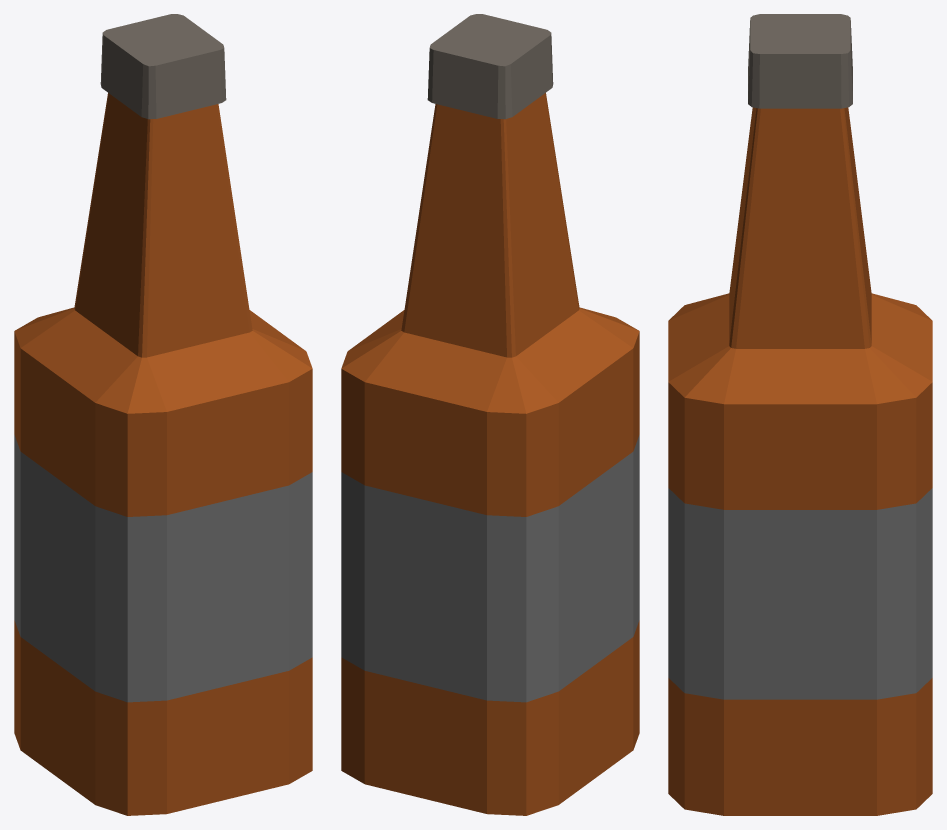
Rendered from Alcohol_Bottle_03.fbx.
3 views of the same model, side by side, from view 1: azimuth 30°, elevation 25°; view 2: azimuth 150°, elevation 25°; view 3: azimuth 270°, elevation 25° (orthographic). The views are drawn at different scales.
Parts seen in each view (by area): view 1: Bottle_03; view 2: Bottle_03; view 3: Bottle_03.
Part boxes in pixels (x1,y1,x2,y2): Bottle_03: [14, 14, 312, 815]; Bottle_03: [341, 14, 639, 815]; Bottle_03: [668, 14, 932, 815].
Bounding box in the file's own units: 19.7 × 63.48 × 20.87.
